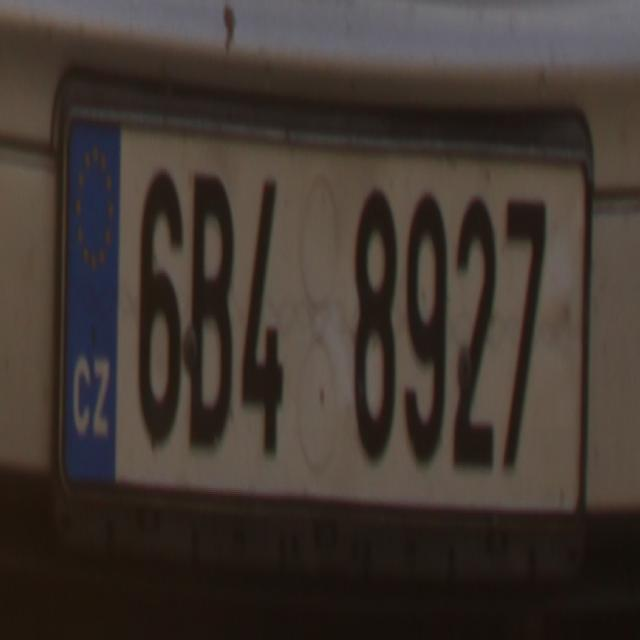2: (453, 188, 497, 473)
4: (240, 164, 288, 460)
6: (134, 154, 185, 448)
7: (502, 190, 548, 476)
8: (350, 173, 398, 465)
9: (401, 185, 449, 463)
B: (190, 160, 236, 457)
